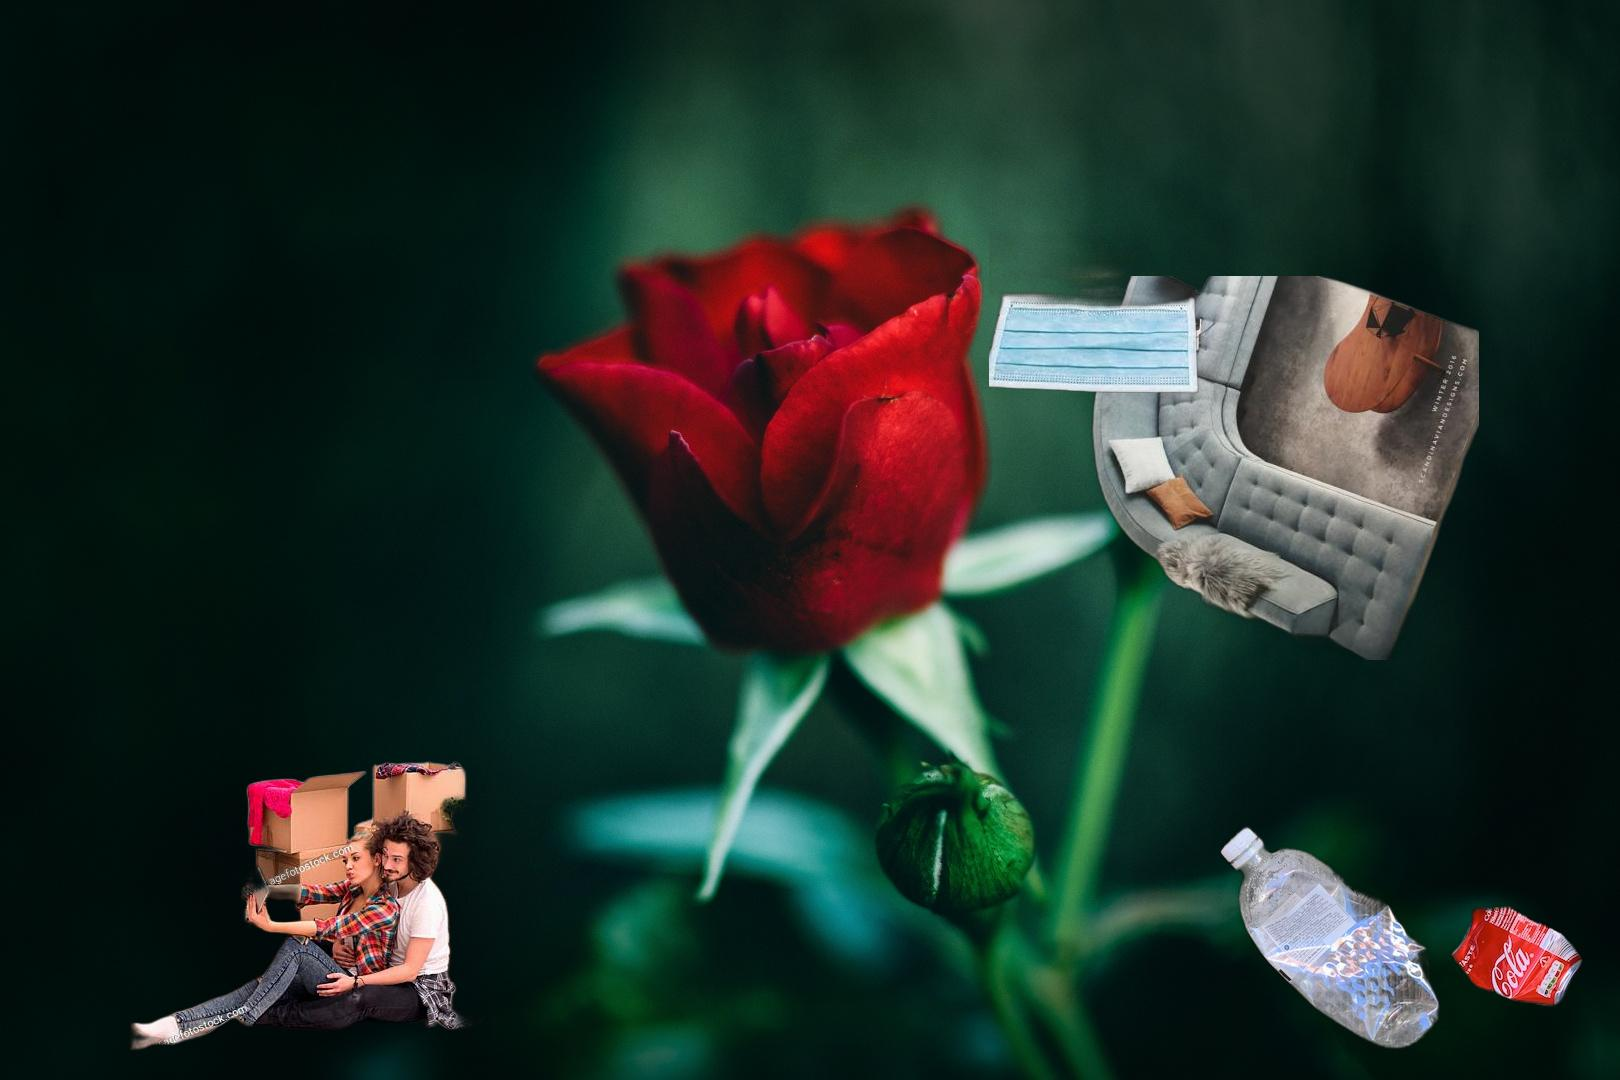metal-cans: (1446, 900, 1586, 1012)
paper: (1088, 276, 1479, 661)
plastic-bottles: (1216, 822, 1445, 1055)
trash: (990, 193, 1203, 397)
trashbox-cardboard: (124, 757, 491, 1058)
